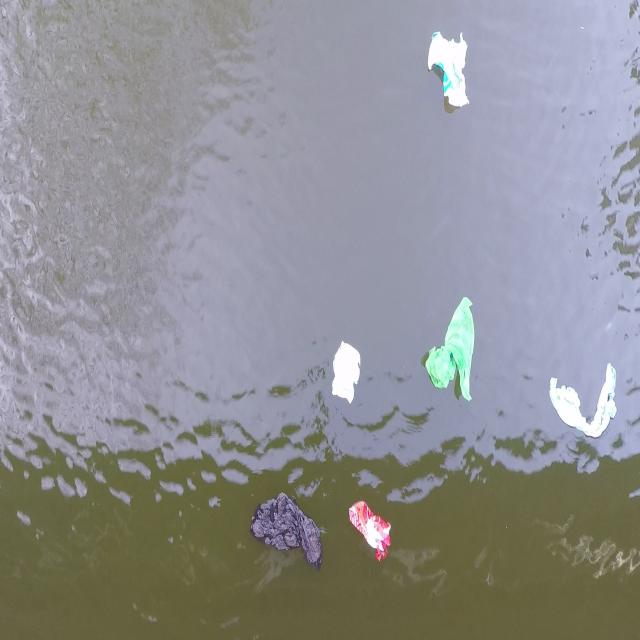Sac plastique: (422, 289, 482, 411), (243, 496, 329, 576), (547, 358, 623, 448), (425, 21, 475, 116), (343, 493, 396, 567), (328, 336, 365, 409)
